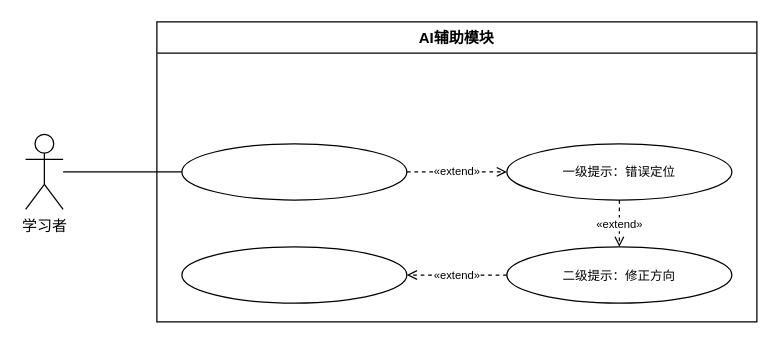
The diagram is 779 pixels wide and 344 high, and some of its shapes have lost their labels. The shapes that lost their labels are listed below. From the top down, each one's centre as x and y in pixels, then its label:
pixel 294 171: 请求AI辅助
pixel 294 274: 三级提示：操作建议
